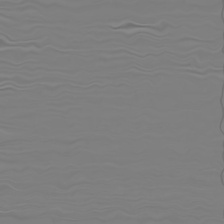cavities: (114, 67, 167, 124)
